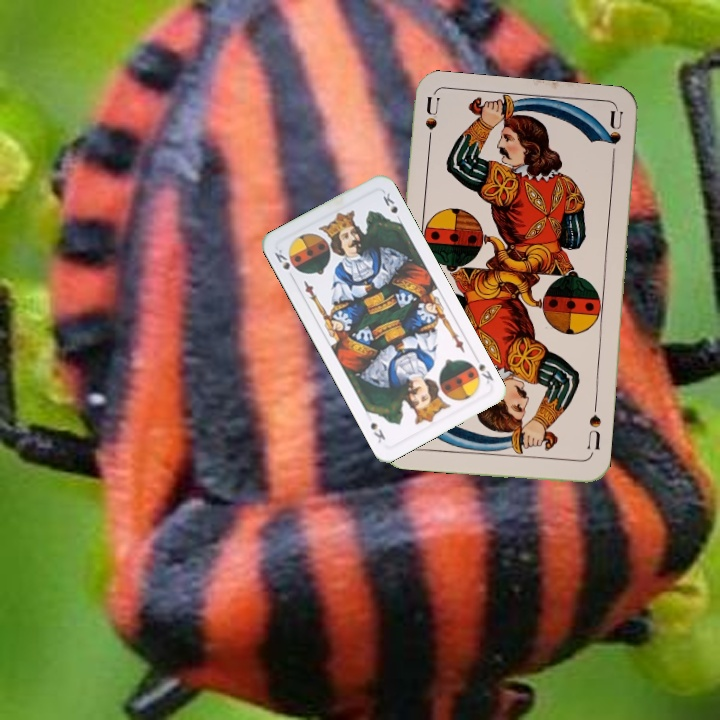SK: (465, 357, 496, 387), (270, 245, 293, 273)
SU: (583, 400, 604, 459), (421, 95, 442, 154)
